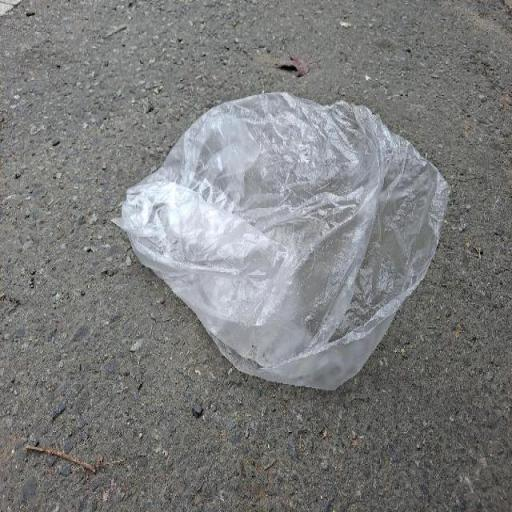plastic-bag: (108, 90, 452, 395)
